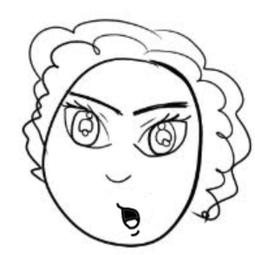eye: (128, 111, 195, 159), (58, 100, 115, 148)
eyebrow: (71, 89, 122, 117)
frowning_eyebrow: (130, 100, 188, 118)
nose: (102, 167, 138, 191)
open_mouth: (119, 205, 149, 232)
